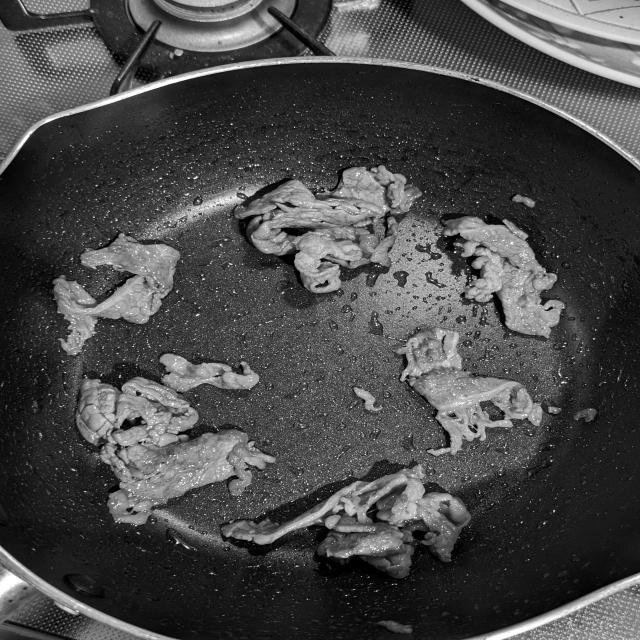OK cooked beef,: (61, 345, 284, 543), (213, 456, 476, 590), (220, 158, 427, 304), (382, 321, 555, 460), (45, 230, 192, 363), (433, 214, 578, 346)
